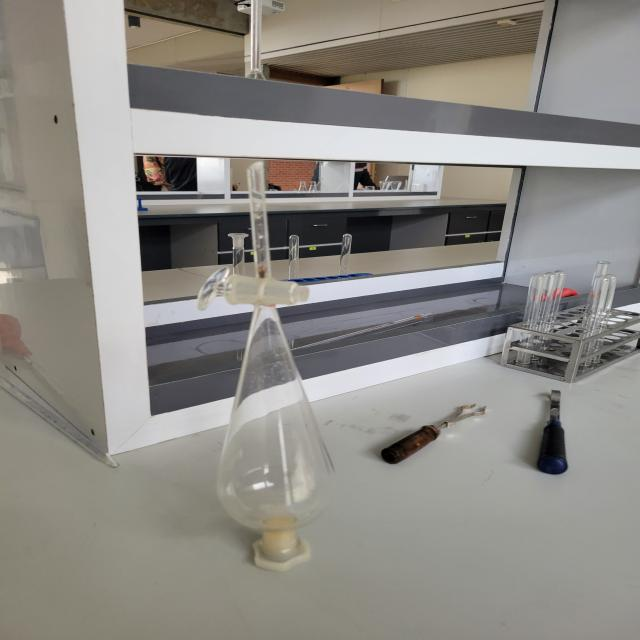Separating_Funnel: (132, 137, 375, 583)
